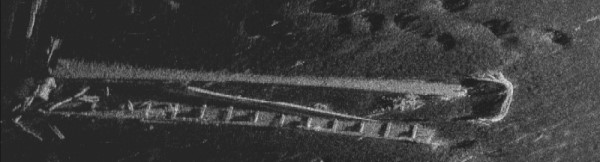ship: (25, 61, 515, 144)
